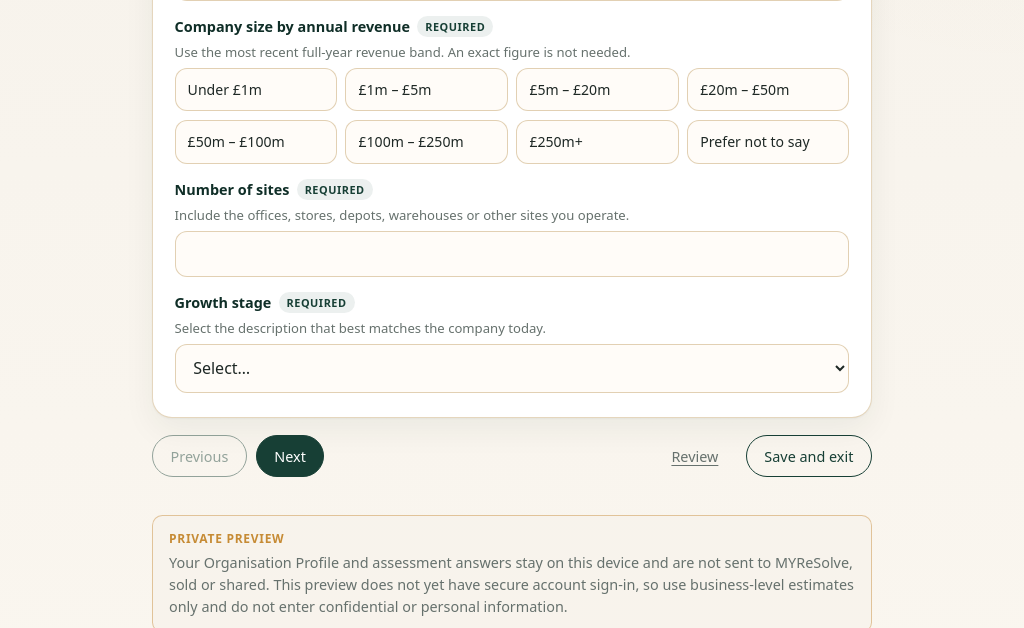
Test: OrganisationProfileApp › prevents duplicate selections
(page scrolled)
Step 1. Click the button with test id "profile-next" → (290, 456), box top-left (256, 435), bottom-right (324, 477)
(page scrolled)
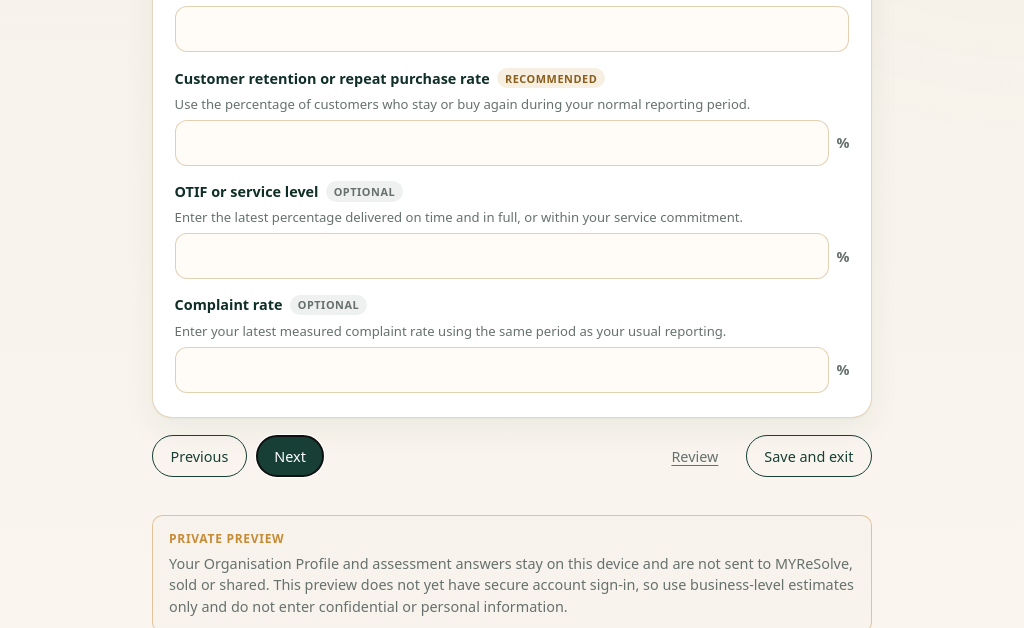
Step 2. Click the button with test id "profile-next" → (290, 456), box top-left (256, 436), bottom-right (324, 477)
(page scrolled)
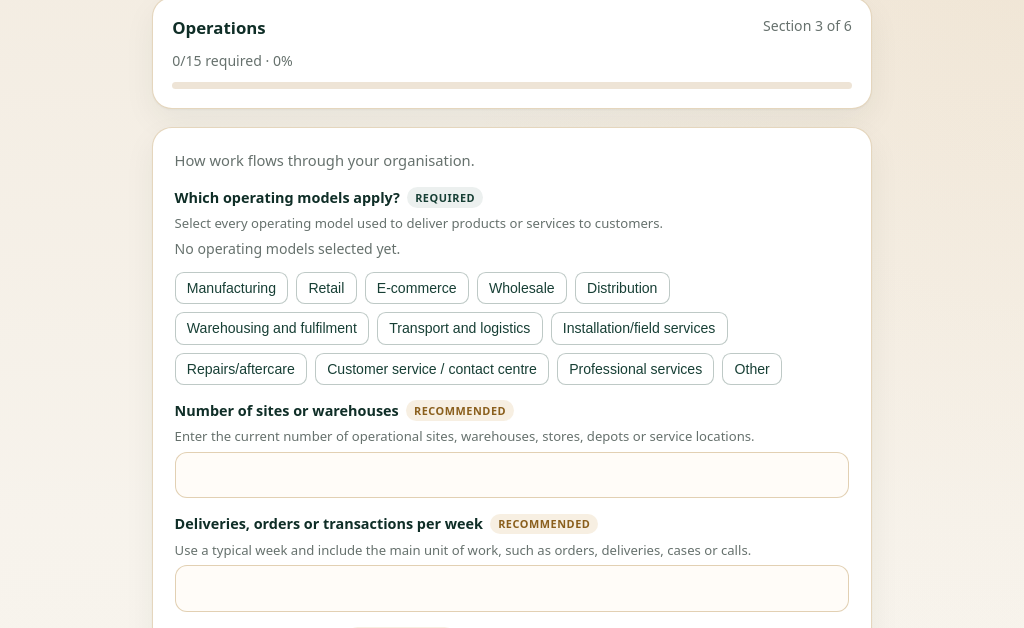
Step 3. Click the button with test id "operating-models-add-manufacturing" → (231, 288), box top-left (175, 272), bottom-right (288, 304)
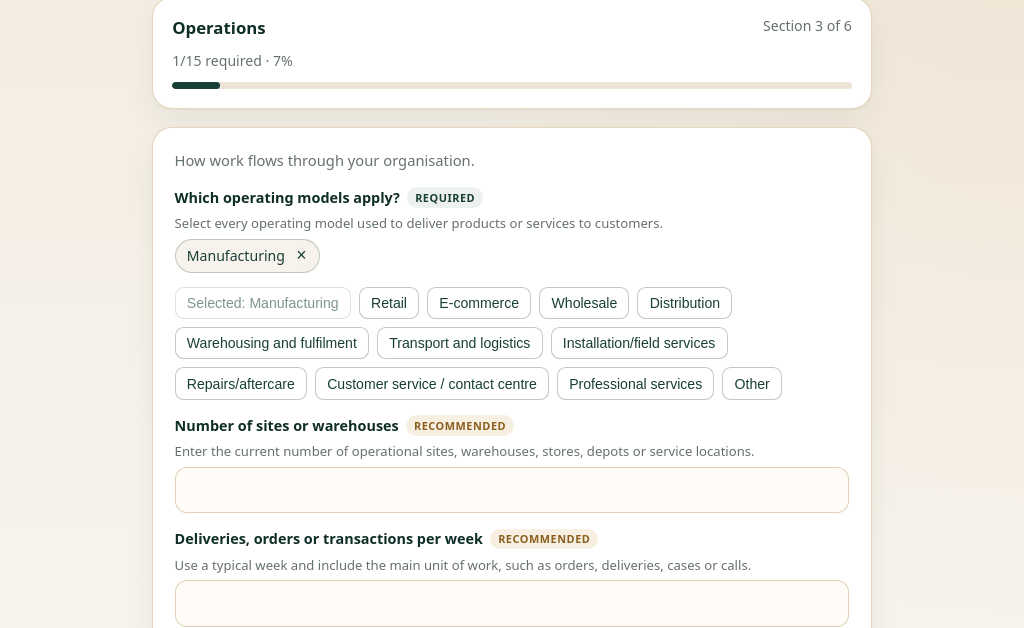
Expected: the button with test id "operating-models-add-manufacturing" is disabled, top-left (175, 287), bottom-right (351, 319)
